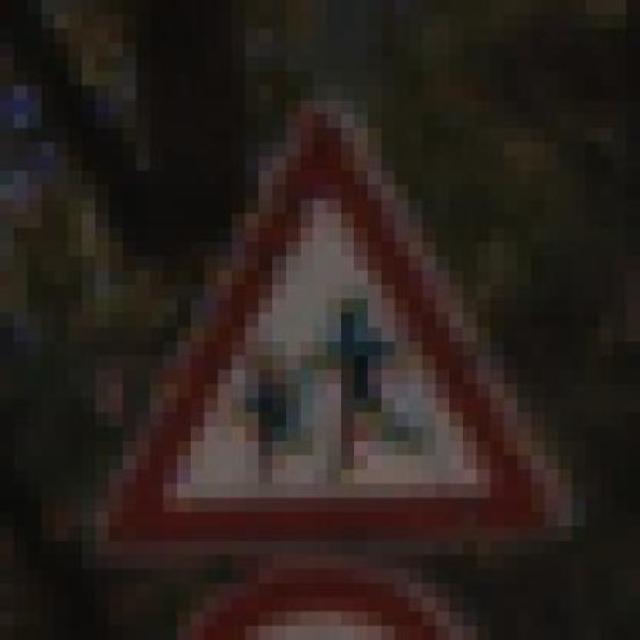Beware of children: (68, 85, 586, 569)
